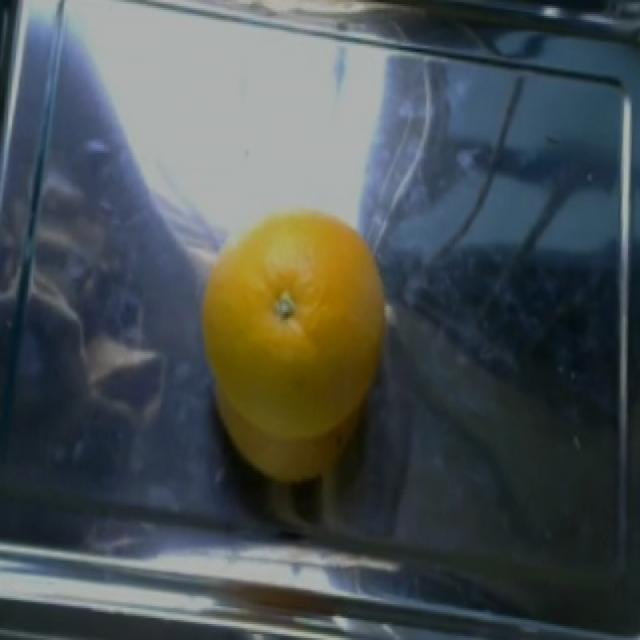Fruit: (196, 201, 399, 487)
